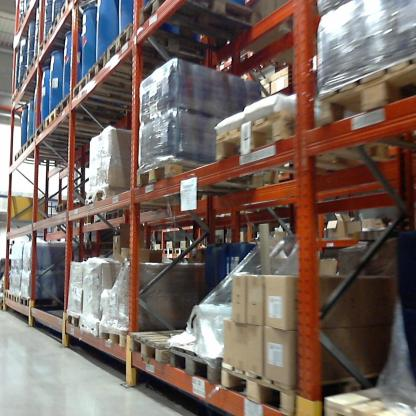pallet: (212, 98, 404, 185), (317, 48, 415, 148), (220, 357, 396, 410), (131, 154, 286, 200), (104, 19, 224, 76), (131, 2, 261, 51), (168, 340, 254, 390), (132, 325, 232, 366), (84, 52, 159, 95), (70, 76, 147, 113), (33, 119, 118, 152), (49, 94, 119, 125), (96, 318, 153, 356), (86, 192, 192, 212), (42, 109, 111, 138), (24, 133, 94, 161), (323, 392, 415, 413), (15, 146, 86, 168), (30, 52, 76, 81), (21, 69, 64, 95), (19, 293, 69, 312), (7, 92, 42, 111), (82, 313, 105, 341), (42, 40, 74, 58), (65, 309, 87, 330), (48, 11, 64, 39), (51, 200, 68, 213), (58, 1, 74, 13), (25, 2, 38, 16), (173, 246, 188, 258), (68, 196, 81, 208), (162, 244, 173, 256), (4, 288, 13, 301), (13, 291, 20, 306), (15, 15, 27, 23)
